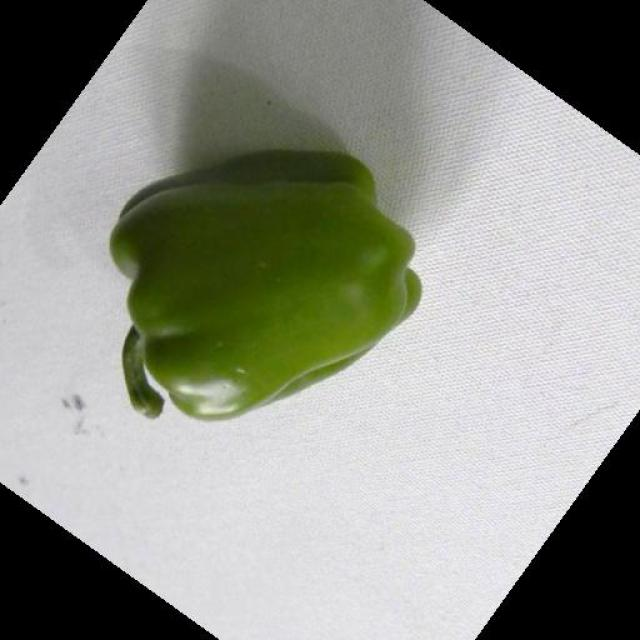Fresh_Capsicum: (99, 194, 408, 416)
